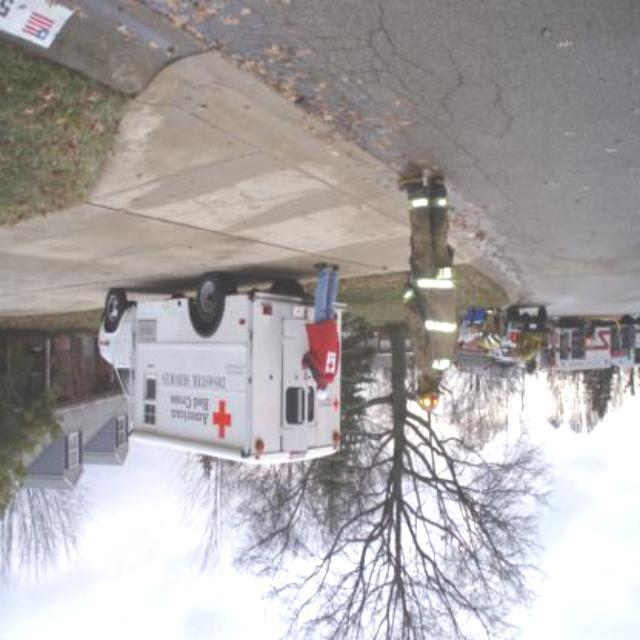emergency-vehicle: (100, 276, 346, 462)
